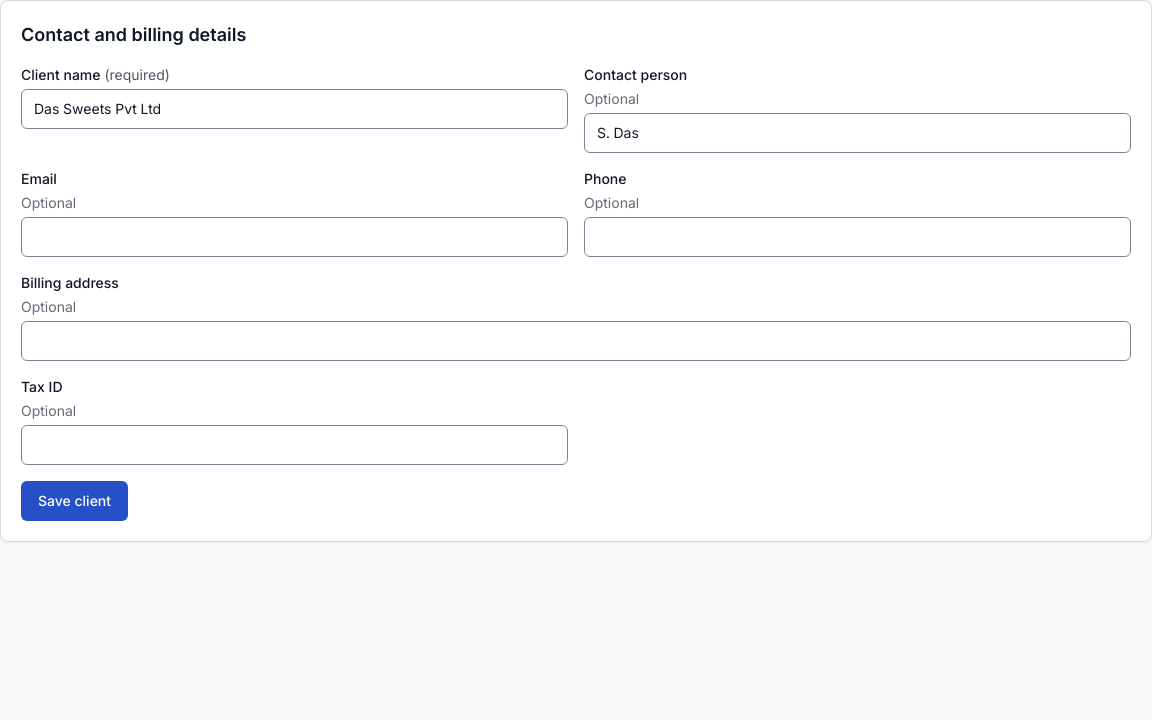
S-02 ClientForm (FR-010) › CT-CLI-05 ERR-005 a stale save shows the conflict banner with Reload
What coordinates should you click on to do the following:
click the button "Save client"
I would click on:
 (75, 501)
Its box is 21,481 -> 128,521.
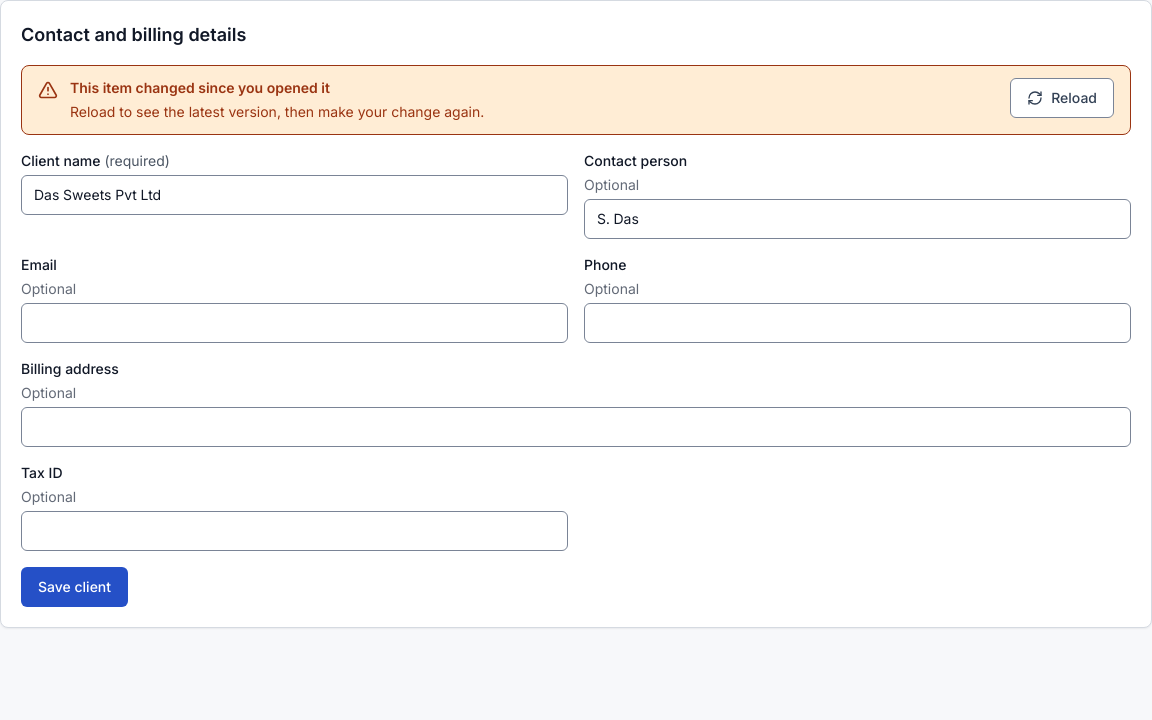
Check: the text "This item changed since you opened it" is shown, box 70,79 -> 330,96
Check: the button "Reload" is shown, box 1010,78 -> 1114,118
